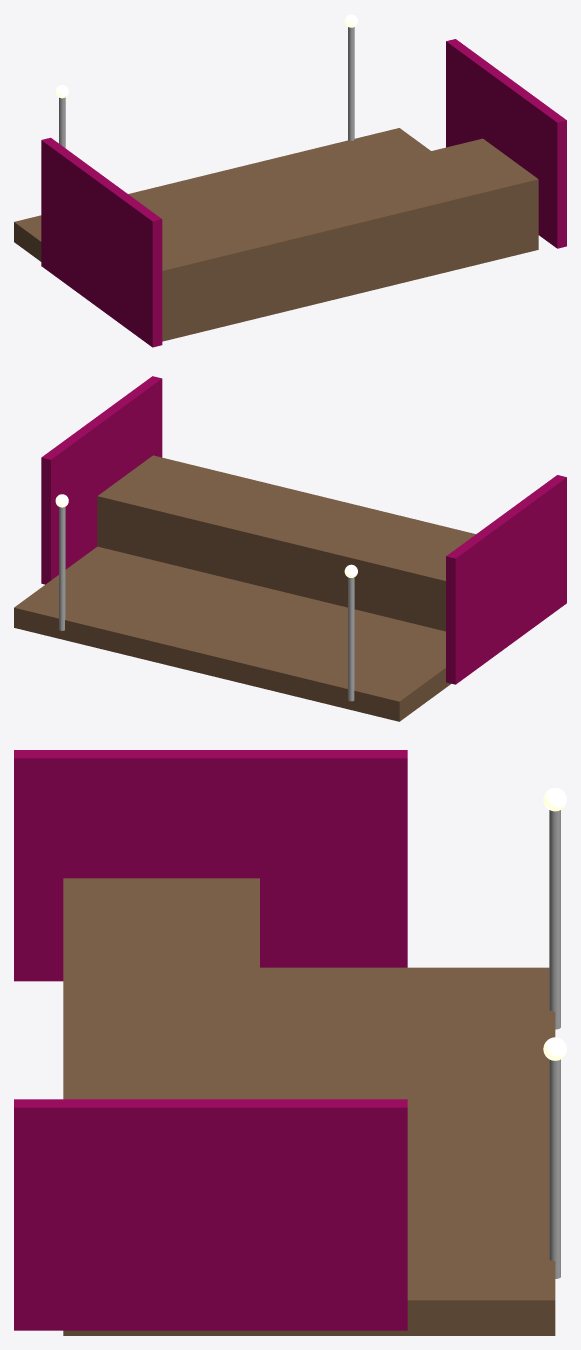
The model's file is stage.glb.
The picture shows the model from 3 angles, top to bottom: view 1: azimuth 30°, elevation 25°; view 2: azimuth 150°, elevation 25°; view 3: azimuth 270°, elevation 25°; orthographic projection. The views are drawn at different scales.
Visible parts, largest first — view 1: BackSection, CurtainLeft, BasePlatform, CurtainRight, SpotStandRight, StairLeft; view 2: BasePlatform, BackSection, CurtainLeft, CurtainRight, StairLeft, StairRight, SpotStandLeft, SpotStandRight; view 3: CurtainRight, BasePlatform, CurtainLeft, BackSection, StairRight, StairLeft, SpotStandRight, SpotStandLeft.
Part boxes in pixels (x1=…): BackSection: x1=160, y1=138, x2=538, y2=331; CurtainLeft: x1=41, y1=137, x2=162, y2=347; BasePlatform: x1=14, y1=128, x2=538, y2=341; CurtainRight: x1=446, y1=39, x2=566, y2=248; SpotStandRight: x1=348, y1=27, x2=354, y2=140; StairLeft: x1=14, y1=215, x2=41, y2=261; BasePlatform: x1=14, y1=546, x2=451, y2=721; BackSection: x1=97, y1=455, x2=475, y2=631; CurtainLeft: x1=446, y1=475, x2=566, y2=684; CurtainRight: x1=41, y1=376, x2=162, y2=584; StairLeft: x1=327, y1=659, x2=441, y2=721; StairRight: x1=14, y1=577, x2=108, y2=641; SpotStandLeft: x1=348, y1=577, x2=354, y2=701; SpotStandRight: x1=59, y1=507, x2=65, y2=630; CurtainRight: x1=14, y1=1099, x2=407, y2=1330; BasePlatform: x1=63, y1=967, x2=555, y2=1335; CurtainLeft: x1=14, y1=750, x2=407, y2=981; BackSection: x1=63, y1=878, x2=259, y2=1099; StairRight: x1=407, y1=1238, x2=555, y2=1335; StairLeft: x1=407, y1=967, x2=555, y2=1029; SpotStandRight: x1=549, y1=1059, x2=560, y2=1278; SpotStandLeft: x1=549, y1=810, x2=560, y2=1029.
Size of the model in its own units: 8.6 by 2.87 by 5.62.
